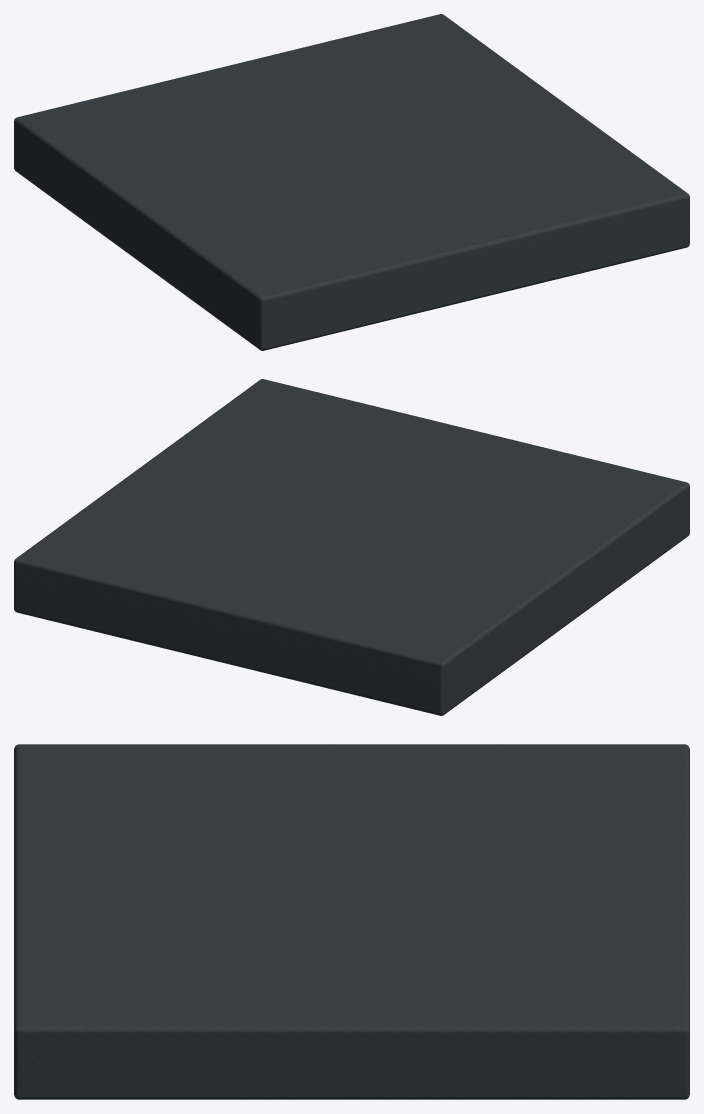
Rendered from CeilingAccessPanel.glb.
3 views of the same model, one above another, from view 1: azimuth 30°, elevation 25°; view 2: azimuth 150°, elevation 25°; view 3: azimuth 270°, elevation 25° (orthographic). The views are drawn at different scales.
Parts seen in each view (by area): view 1: CeilingAccessPanel_Mesh; view 2: CeilingAccessPanel_Mesh; view 3: CeilingAccessPanel_Mesh.
Part boxes in pixels (x1,y1,x2,y2): CeilingAccessPanel_Mesh: (14,14,689,350); CeilingAccessPanel_Mesh: (14,379,689,715); CeilingAccessPanel_Mesh: (14,744,689,1099).
Size of the model in its own units: 1 by 0.161 by 1.
Materials: 5 (5 with a texture image).
